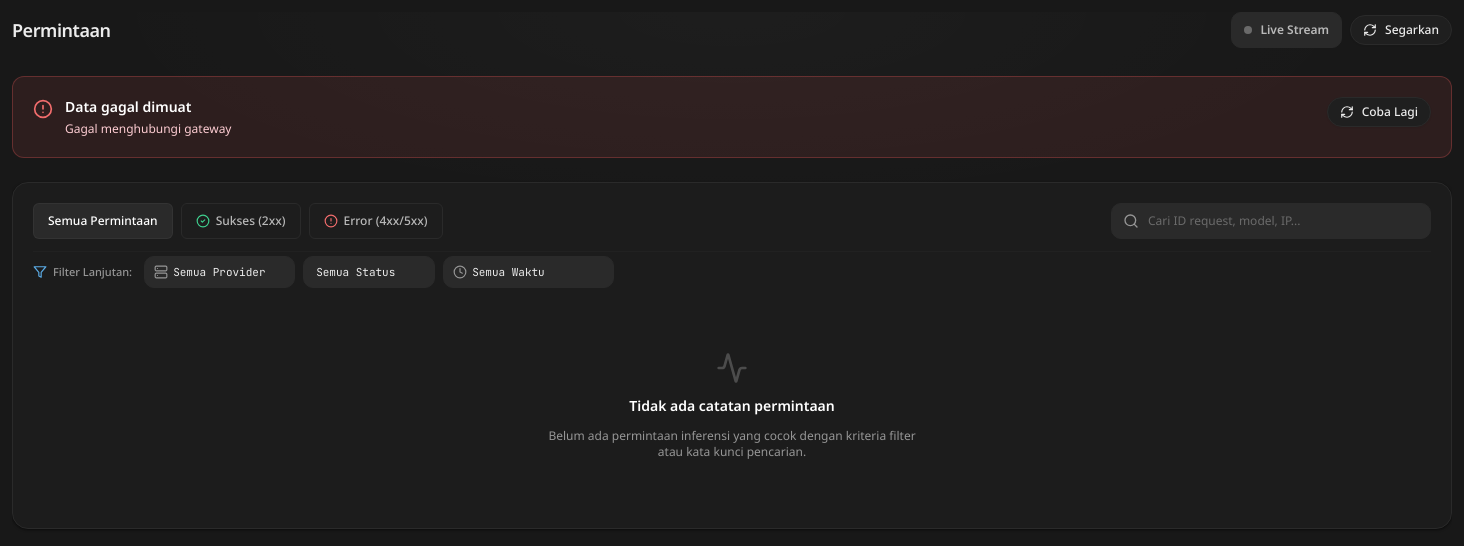
Test case: Requests Page — Modular Architecture & Integration Spec › menampilkan QueryError dan mendukung tombol Coba Lagi saat loadRequests gagal
The width and height of the screenshot is (1464, 546).
Expected: the text "Gagal menghubungi gateway" is shown, left=65, top=121, right=232, bottom=137
What coordinates should you click on to do the following:
click the button "Coba Lagi"
I would click on:
 (1379, 112)
Its box is left=1327, top=97, right=1431, bottom=127.
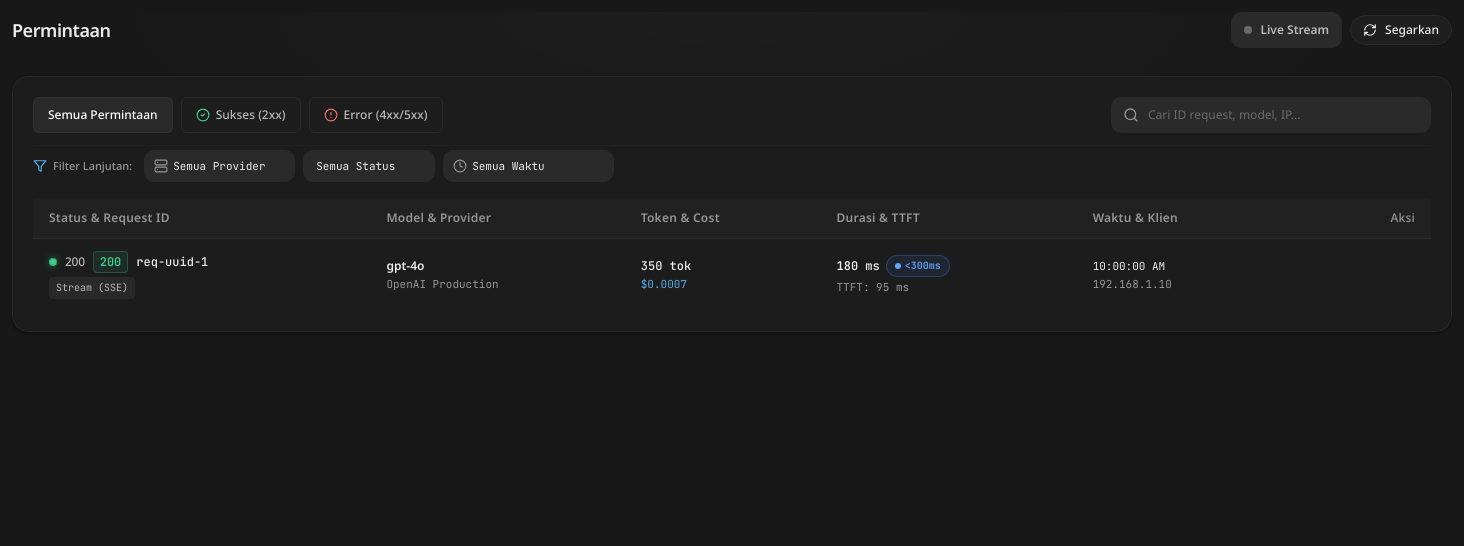
Expected: the text "req-uuid-1" is shown, left=136, top=254, right=208, bottom=270
